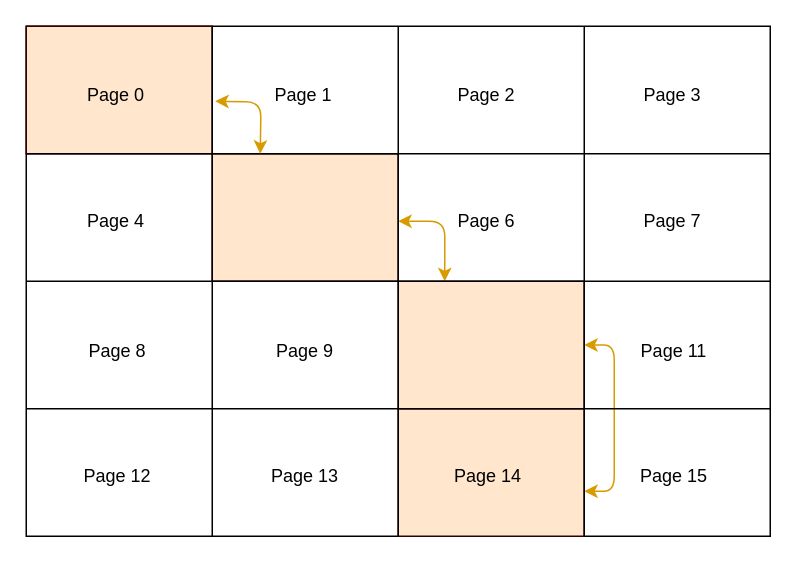
The diagram is 798 pixels wide and 564 high, and some of its shapes have lost their labels. Each missing label, with the centre of its shape:
"Page 10" belongs at [490,344].
"Page 5" belongs at [304,216].
